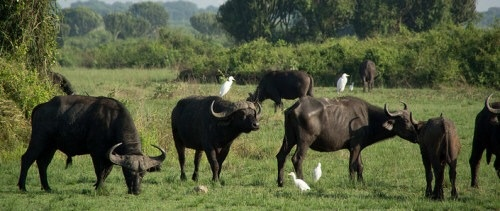bird: (284, 169, 313, 194), (335, 69, 352, 94), (217, 75, 236, 96), (310, 160, 324, 185)
buffalo: (16, 92, 169, 197), (275, 91, 419, 186), (170, 94, 263, 186), (407, 108, 466, 200), (467, 85, 500, 190), (246, 68, 316, 115), (358, 58, 380, 94)
